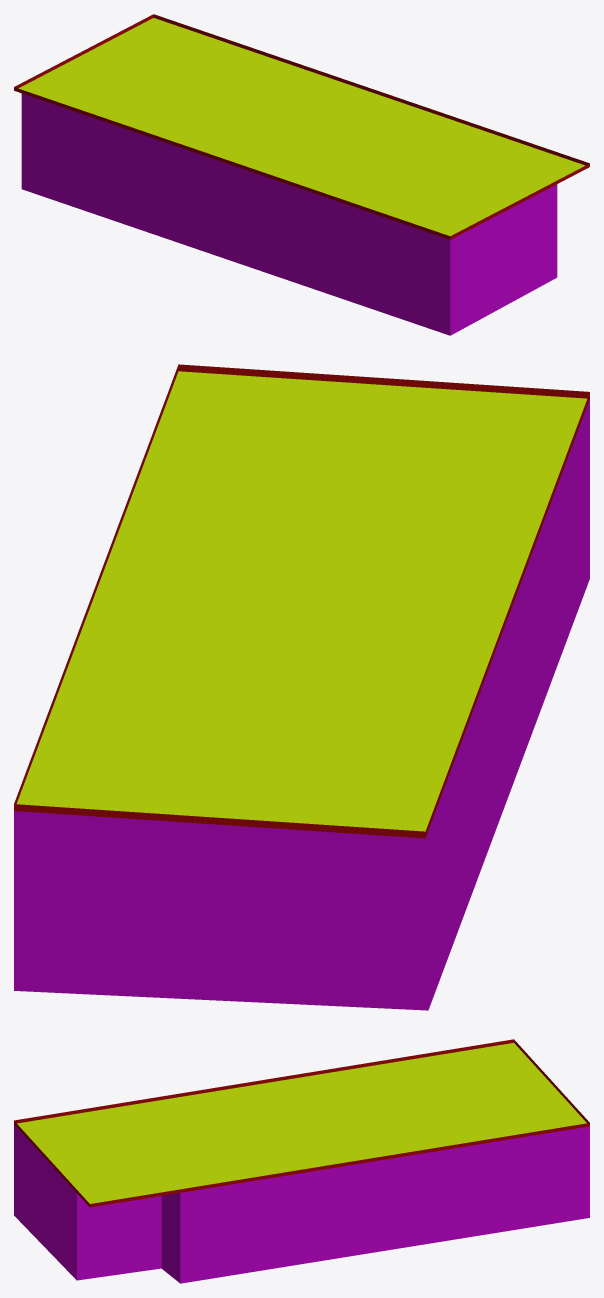
File: ssv_25.glb
3 views of the same model, one above another, from view 1: azimuth 30°, elevation 25°; view 2: azimuth 150°, elevation 25°; view 3: azimuth 270°, elevation 25° (orthographic). The views are drawn at different scales.
Visible parts, largest first — view 1: ssv_25; view 2: ssv_25; view 3: ssv_25.
Boxes of the visible parts, x1=… form: ssv_25: x1=14, y1=14, x2=589, y2=335; ssv_25: x1=14, y1=364, x2=589, y2=1010; ssv_25: x1=14, y1=1039, x2=589, y2=1283.
Bounding box in the file's own units: 35.36 × 9.51 × 52.24.
